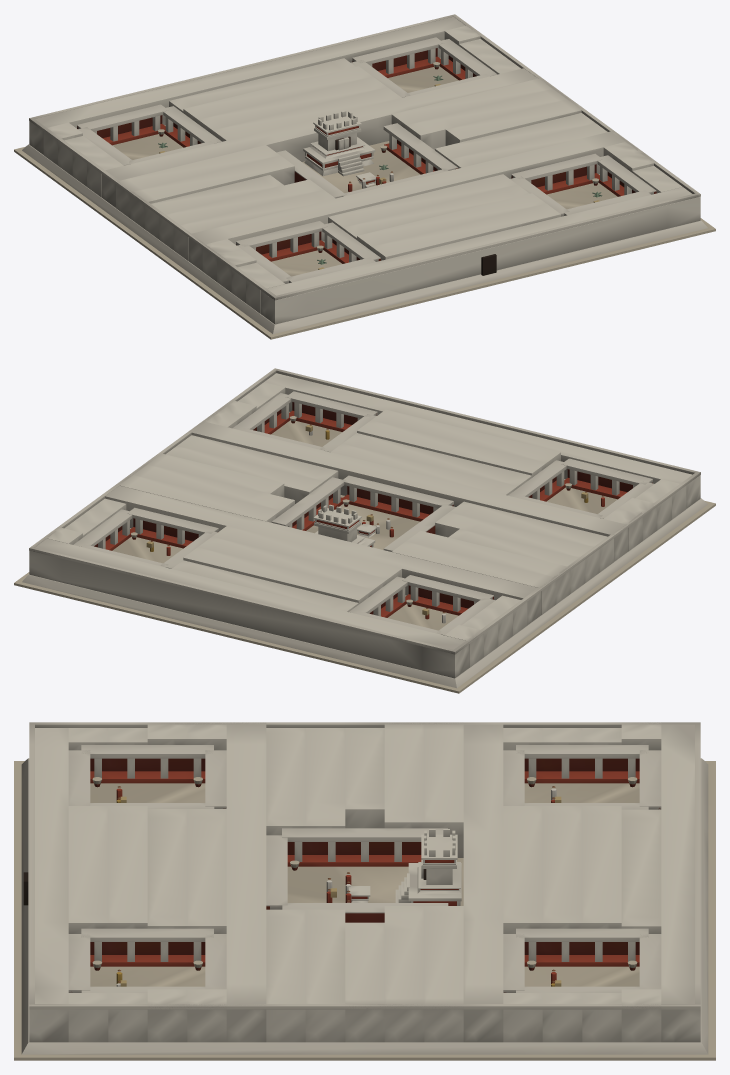
The model's file is tetitla.glb.
3 renders of one model, top to bottom at view 1: azimuth 30°, elevation 25°; view 2: azimuth 150°, elevation 25°; view 3: azimuth 270°, elevation 25°, orthographic. The views are drawn at different scales.
Visible parts, largest first — view 1: p1_compound, p0_ground; view 2: p1_compound, p0_ground; view 3: p1_compound, p0_ground.
Boxes of the visible parts, left/top/right/bottom form: p1_compound: left=22, top=14, right=707, bottom=334; p0_ground: left=14, top=146, right=715, bottom=339; p1_compound: left=22, top=368, right=707, bottom=688; p0_ground: left=14, top=500, right=715, bottom=693; p1_compound: left=21, top=722, right=708, bottom=1054; p0_ground: left=14, top=761, right=715, bottom=1060.
Bounding box in the file's own units: 64 × 7.33 × 64.
